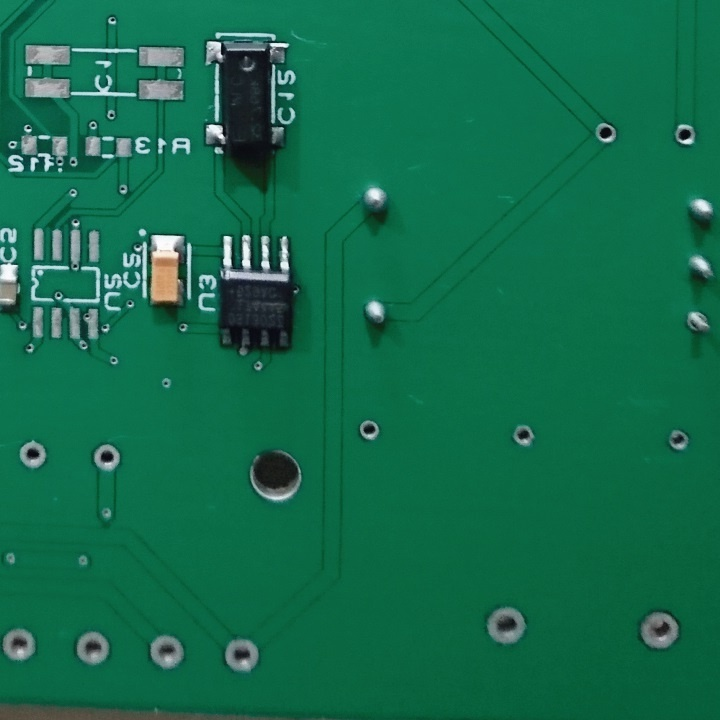F: (636, 608, 684, 656), (481, 603, 530, 650), (218, 635, 263, 677), (72, 627, 113, 671), (1, 626, 40, 669), (147, 631, 187, 669), (91, 440, 124, 477), (683, 306, 716, 340), (16, 438, 48, 470), (507, 421, 537, 451), (661, 427, 694, 454), (593, 118, 618, 149), (356, 416, 381, 447), (673, 121, 696, 149)
